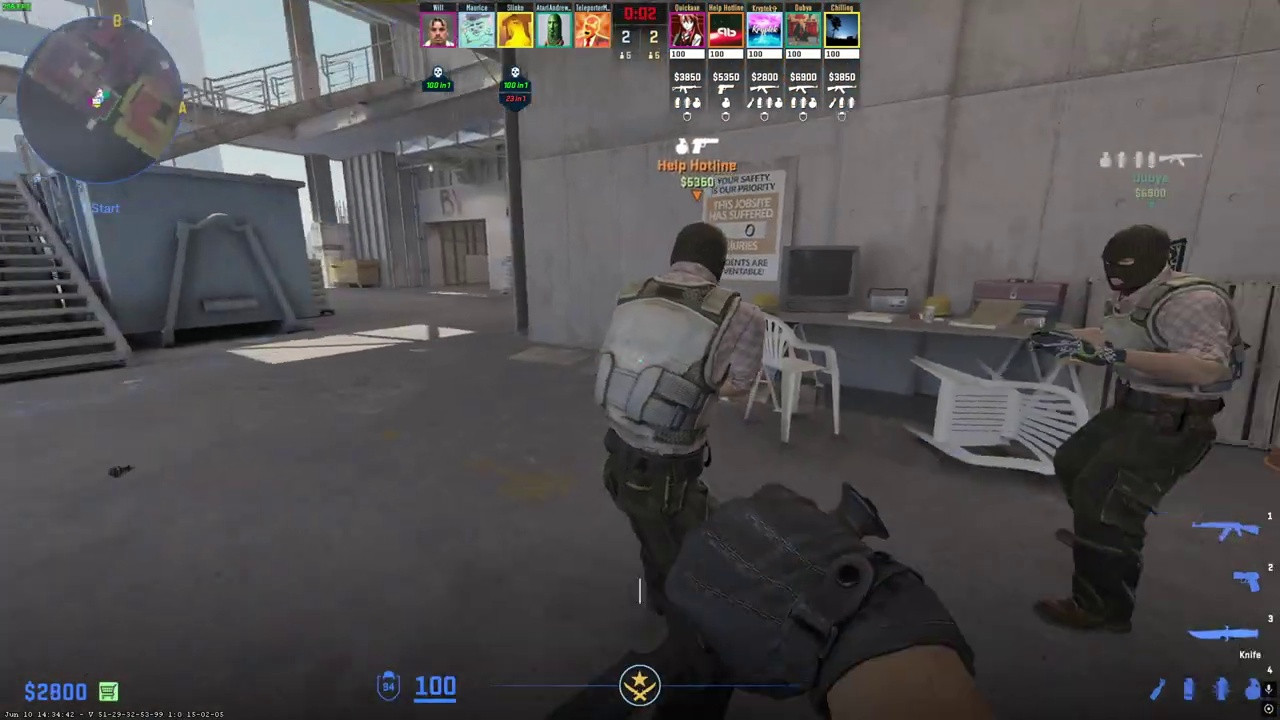Terrorist: (1038, 224, 1243, 635), (593, 222, 757, 604)
